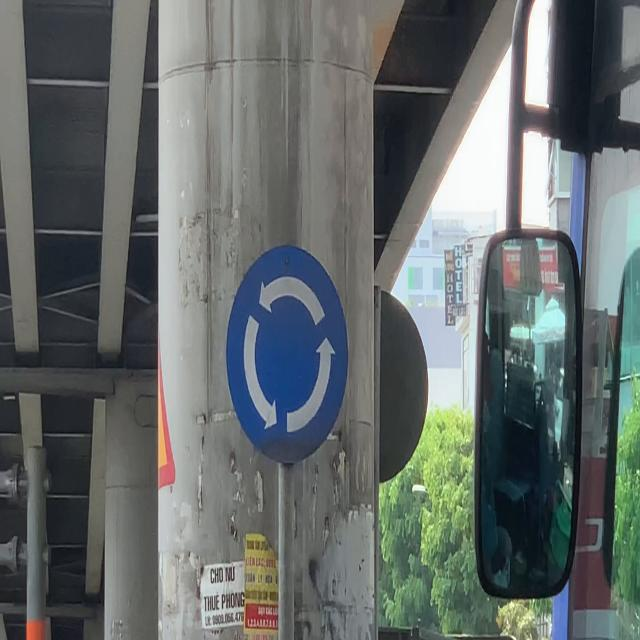Vong xuyen: (224, 242, 352, 470)
